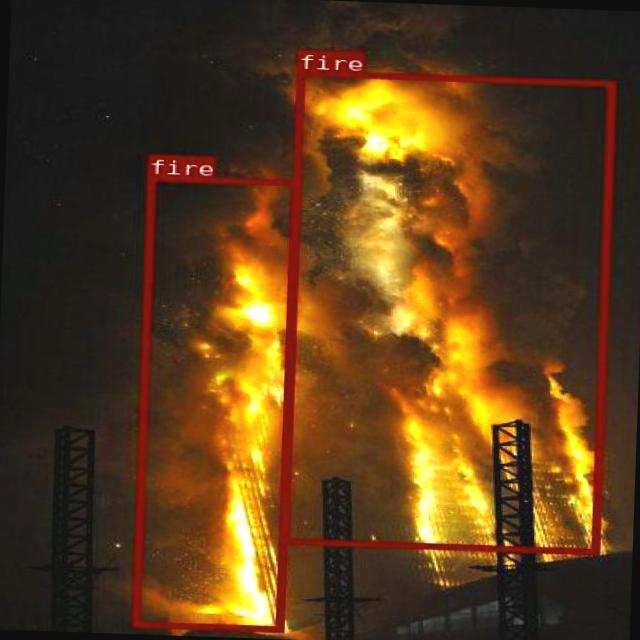fire: (278, 68, 614, 554), (129, 174, 298, 630)
